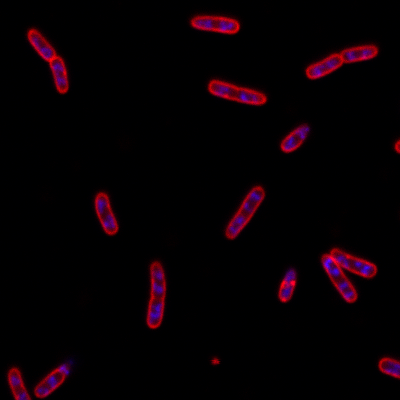Control: (303, 43, 380, 81), (27, 27, 68, 94), (223, 185, 266, 240), (319, 251, 359, 304), (330, 245, 380, 281), (207, 78, 267, 105), (145, 260, 168, 329), (93, 189, 120, 236), (189, 15, 239, 35)
Oblique: (32, 359, 76, 399), (280, 122, 312, 152), (275, 267, 298, 305)
Vesicle: (209, 356, 221, 367)
